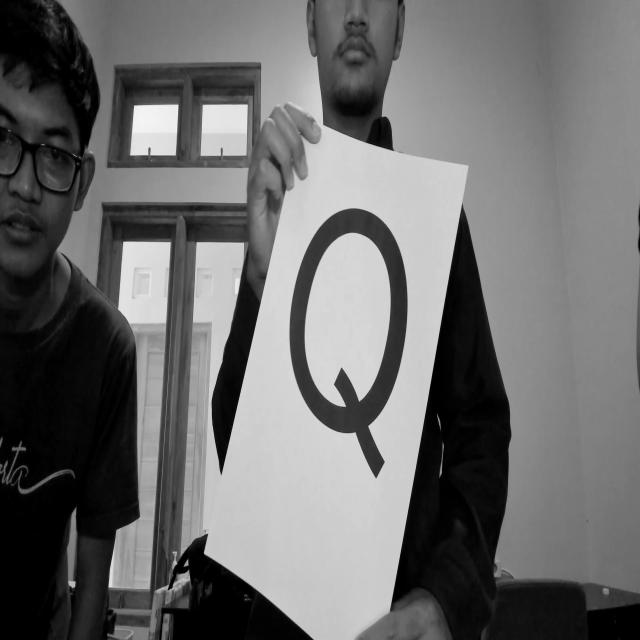q: (286, 201, 426, 500)
